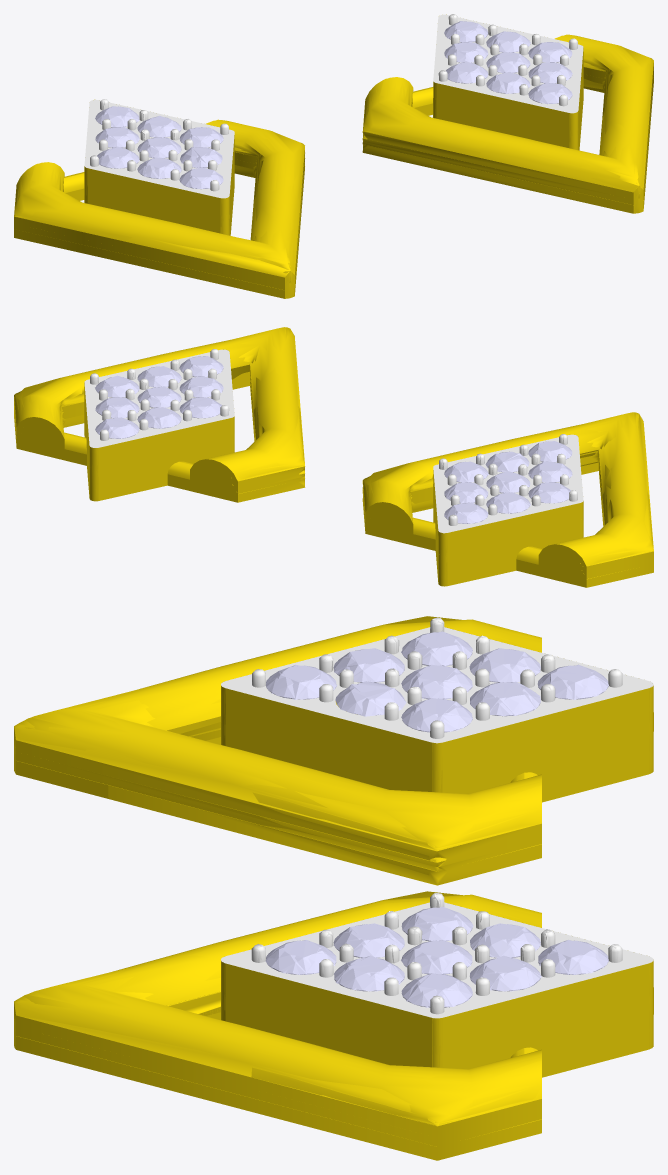
3 renders of one model, top to bottom at view 1: azimuth 30°, elevation 25°; view 2: azimuth 150°, elevation 25°; view 3: azimuth 270°, elevation 25°, orthographic. The views are drawn at different scales.
Visible parts, largest first — view 1: highPolyMesh, lowPolyMesh; view 2: highPolyMesh, lowPolyMesh; view 3: highPolyMesh, lowPolyMesh.
Part boxes in pixels (x1,y1,x2,y2): highPolyMesh: (14,14,653,298); lowPolyMesh: (14,14,653,298); highPolyMesh: (14,327,653,586); lowPolyMesh: (14,327,653,587); highPolyMesh: (14,616,653,1125); lowPolyMesh: (14,618,653,1160).
Size of the model in its own units: 0.0236 by 0.00218 by 0.0126.
